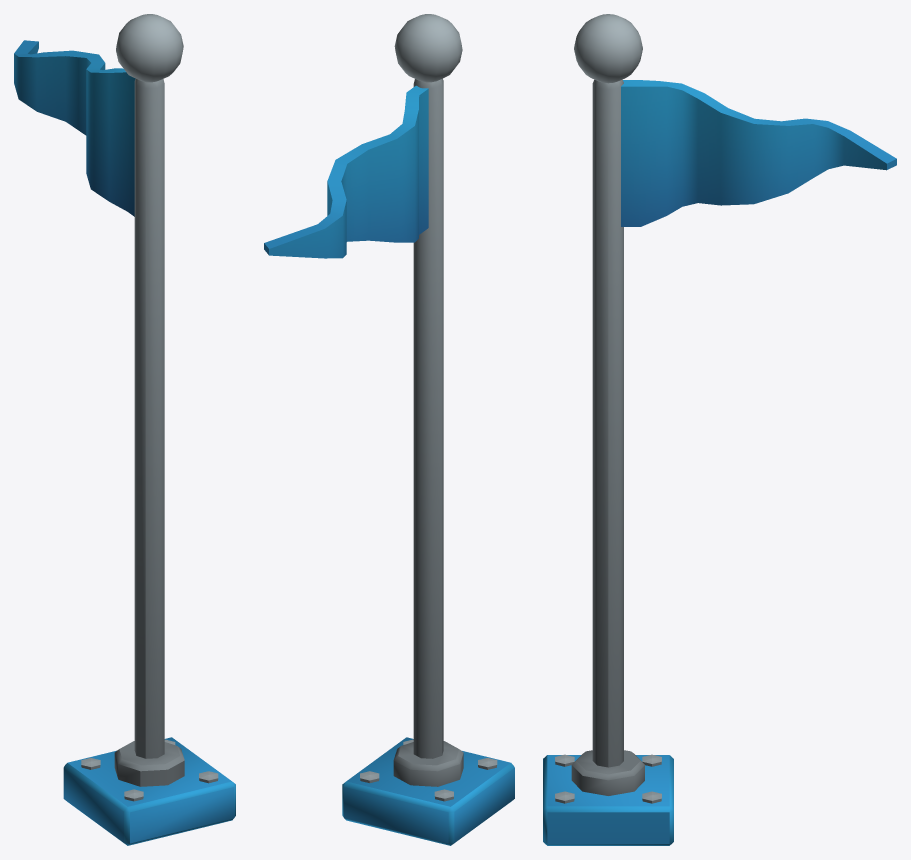
File: flag_C_blue.glb
The picture shows the model from 3 angles, left to right: view 1: azimuth 30°, elevation 25°; view 2: azimuth 150°, elevation 25°; view 3: azimuth 270°, elevation 25°; orthographic projection.
Parts seen in each view (by area): view 1: flag_C_blue; view 2: flag_C_blue; view 3: flag_C_blue.
Part boxes in pixels (x1=…): flag_C_blue: x1=14, y1=14, x2=235, y2=845; flag_C_blue: x1=264, y1=14, x2=514, y2=845; flag_C_blue: x1=543, y1=14, x2=896, y2=845.
Bounding box in the file's own units: 0.6 × 4.06 × 1.62.
1 material, 1 textured.
